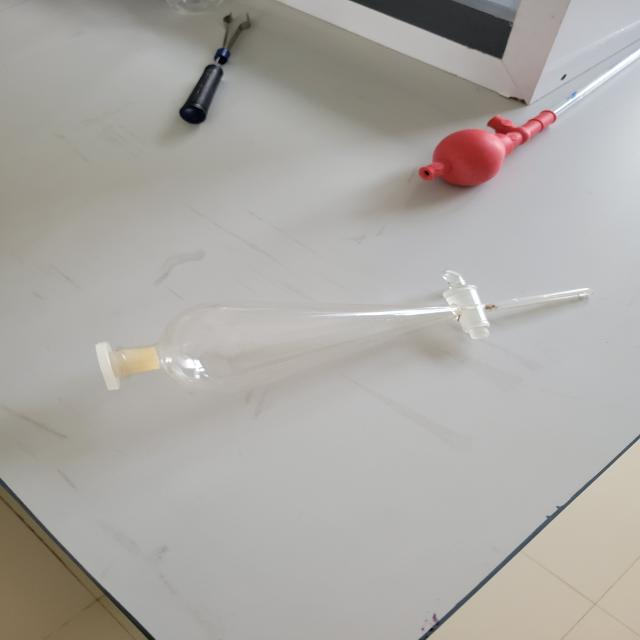Separating_Funnel: (87, 283, 640, 405)
